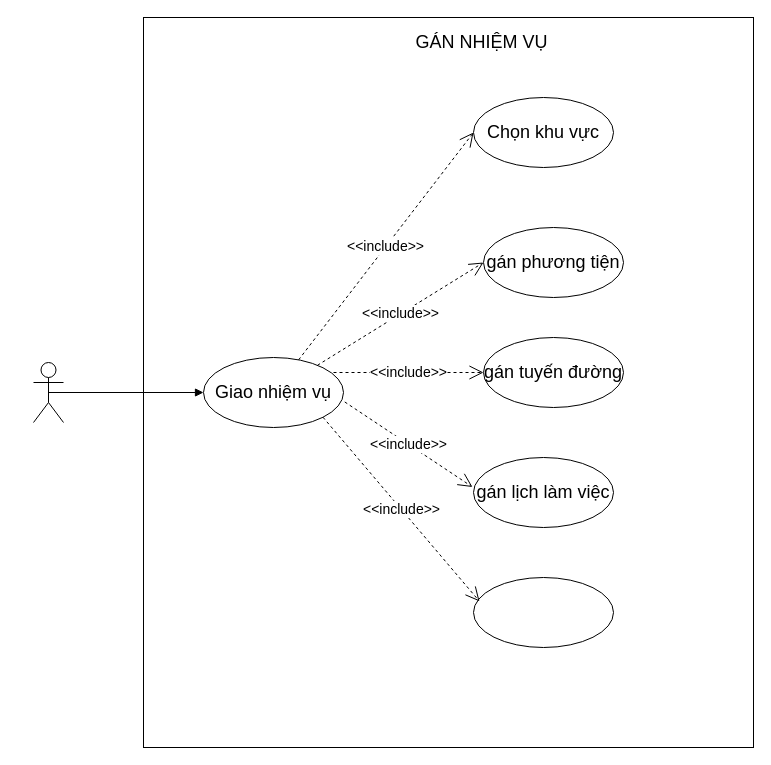
Image size: 771x765. Some labels were removed from this diagram. Here are the shapes that lost their labels. From the top down, the box of each, then its label:
(32, 362, 64, 422): Back officer
(472, 576, 614, 648): gán điểm MCPs
